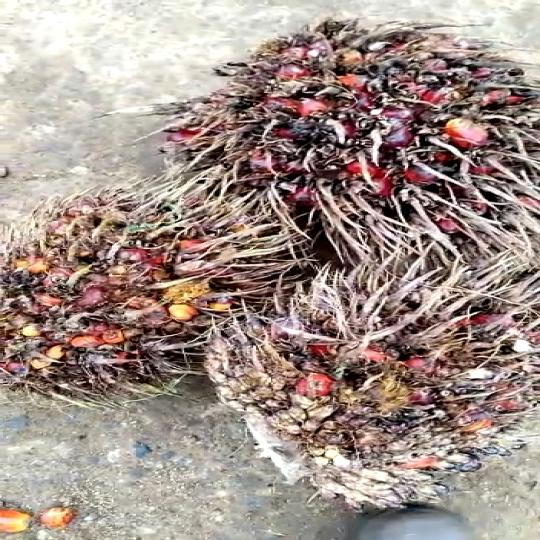terlalu masak: (188, 242, 540, 493), (158, 16, 540, 242), (0, 201, 314, 391)
